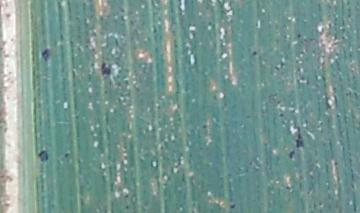tarspot: (35, 148, 50, 163), (39, 47, 53, 63), (99, 61, 113, 77), (294, 132, 306, 150), (291, 119, 301, 132), (278, 53, 286, 68), (287, 148, 295, 161), (272, 65, 281, 74), (117, 5, 126, 14), (3, 11, 12, 20), (63, 152, 72, 160), (250, 49, 258, 58), (228, 203, 237, 210), (2, 52, 11, 59), (200, 123, 208, 130), (284, 184, 292, 191), (254, 18, 259, 29), (278, 112, 285, 119), (123, 193, 130, 200), (8, 36, 15, 43), (295, 66, 301, 74), (275, 98, 281, 106), (295, 32, 301, 39), (335, 113, 341, 119), (124, 204, 130, 210), (333, 160, 339, 166)
